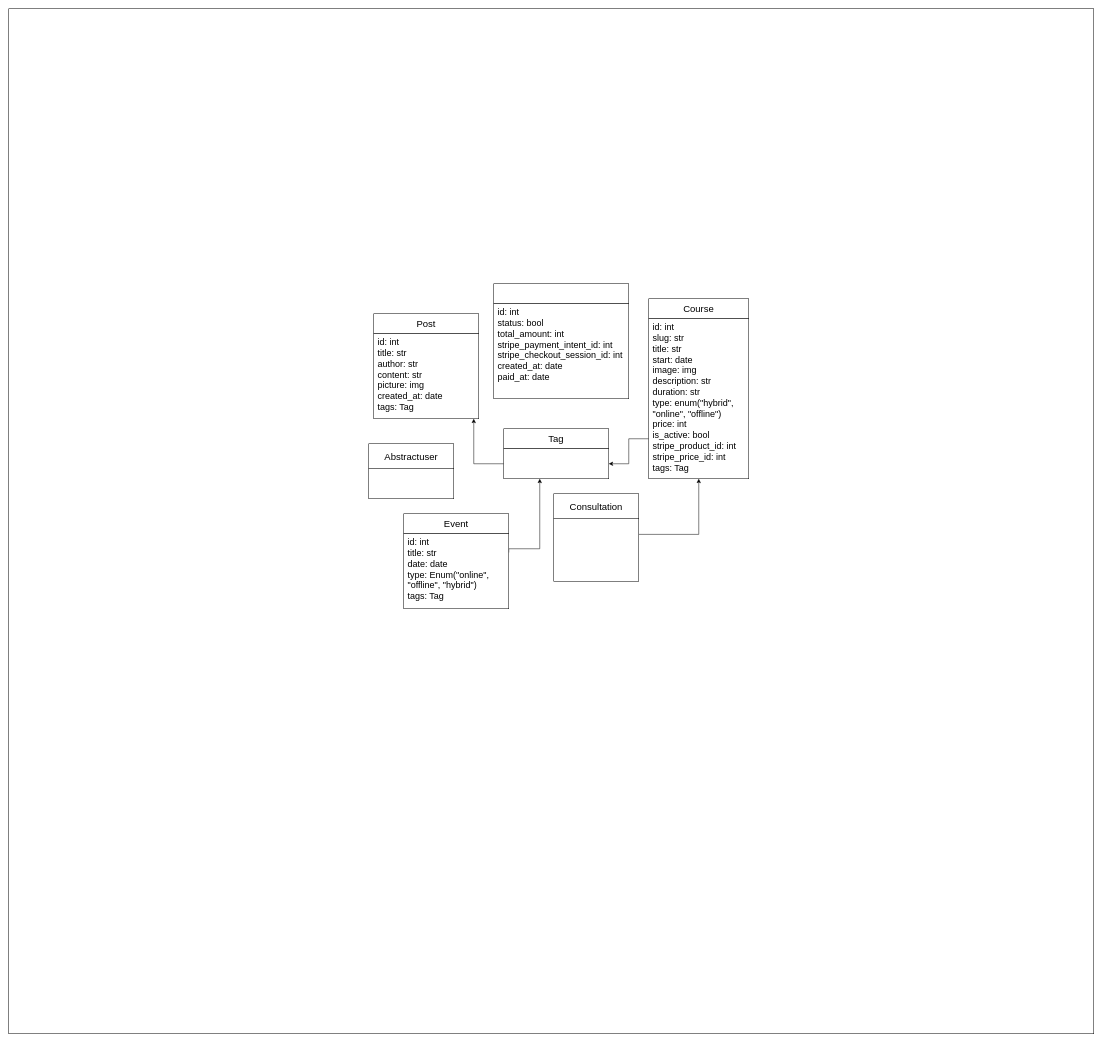
This 1103x1043 diagram has some shape labels left out. The box of each missing label's shape, as (x1, y1, x2, y2) in pixels:
id: int name: str: (503, 448, 609, 479)
id: int name: str email: str phone: str interested: Course: (553, 518, 639, 581)
Order: (493, 283, 629, 304)
Standart DRF user: (368, 468, 454, 499)
